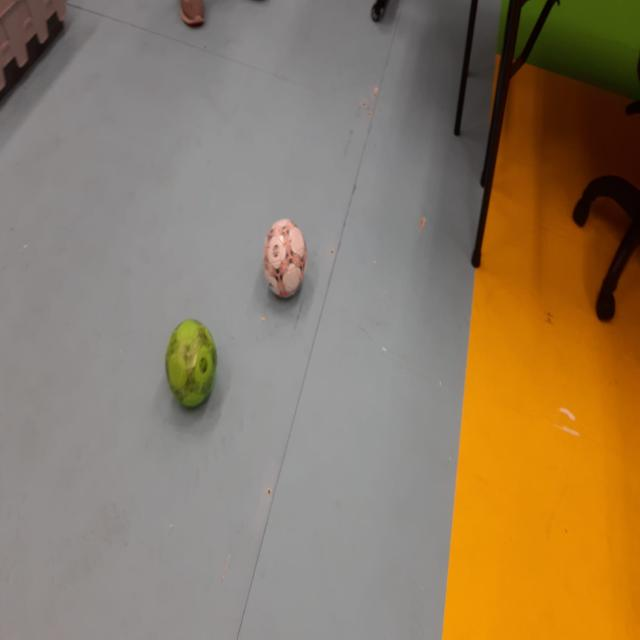ball: (166, 320, 218, 409), (266, 218, 306, 302)
